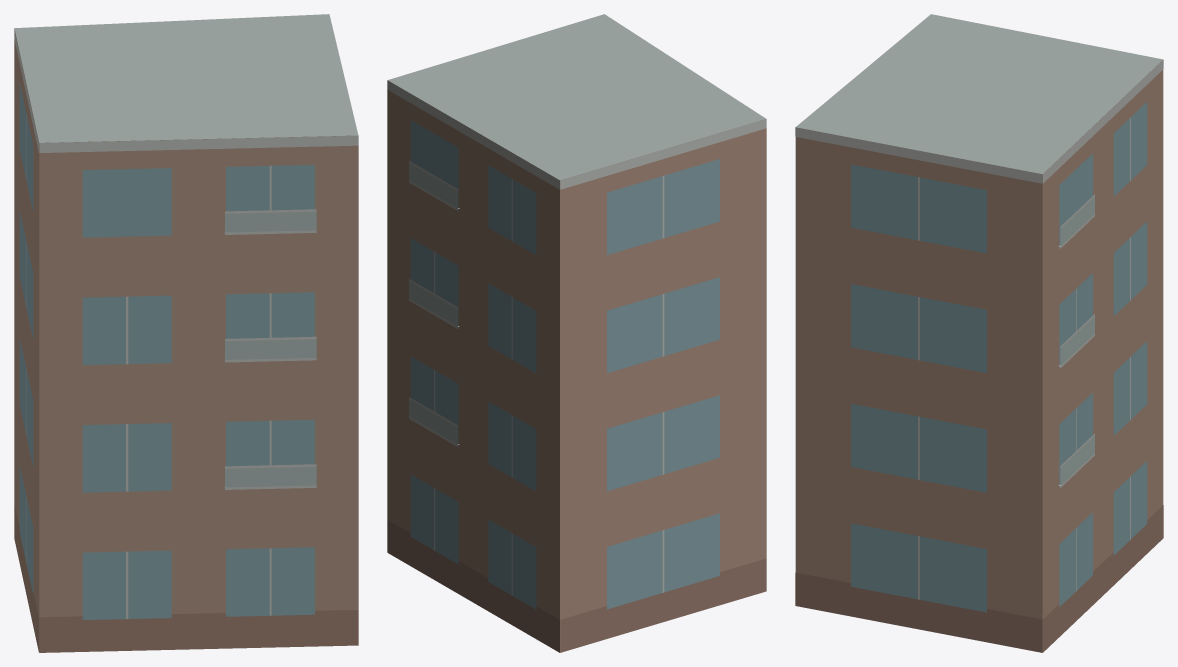
File: survey-upis-32722872.glb
3 renders of one model, left to right at view 1: azimuth 30°, elevation 25°; view 2: azimuth 150°, elevation 25°; view 3: azimuth 270°, elevation 25°, orthographic. The views are drawn at different scales.
Parts seen in each view (by area): view 1: survey-upis-32722872.tmp; view 2: survey-upis-32722872.tmp; view 3: survey-upis-32722872.tmp.
Part boxes in pixels (x1=…): survey-upis-32722872.tmp: x1=14, y1=14, x2=358, y2=652; survey-upis-32722872.tmp: x1=387, y1=14, x2=766, y2=652; survey-upis-32722872.tmp: x1=795, y1=14, x2=1163, y2=652.
Size of the model in its own units: 8.77 by 12.2 by 8.51.
